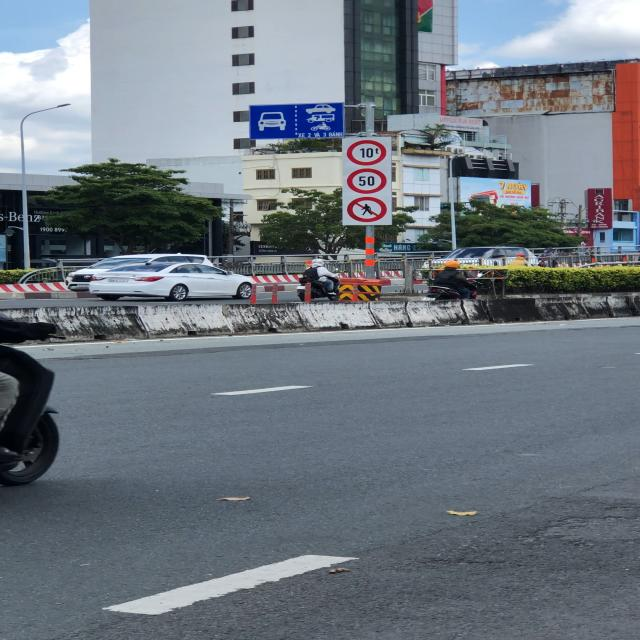Bien bao cam nguoi di bo: (344, 196, 391, 223)
Bien bao toc do toi da cho phep: (342, 166, 393, 194)
